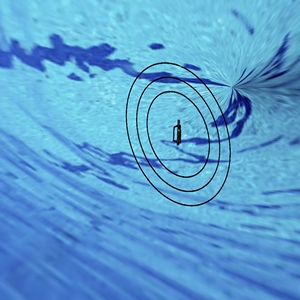circle: (107, 40, 250, 222)
submarine: (167, 114, 190, 151)
